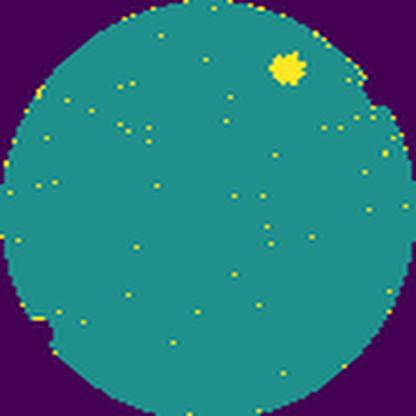Edge-Loc: (267, 48, 309, 86)
